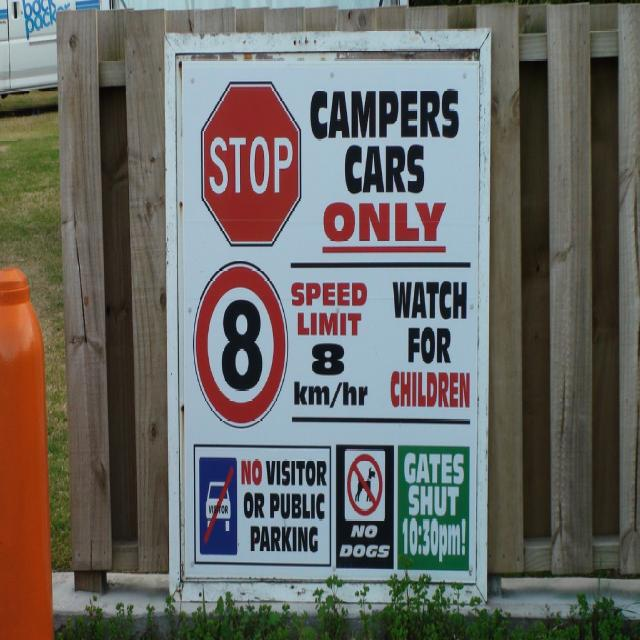Stop-sign: (200, 79, 302, 250)
